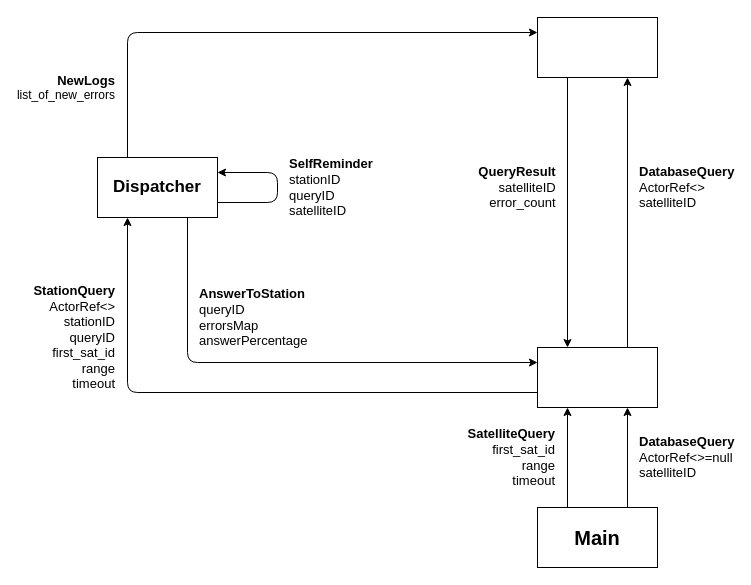
This 751x585 diagram has some shape labels left out. The centre of each missing label's shape, as x and y in pixels:
"Database Connection" goes at (x=597, y=47).
"MonitStation" goes at (x=597, y=377).
